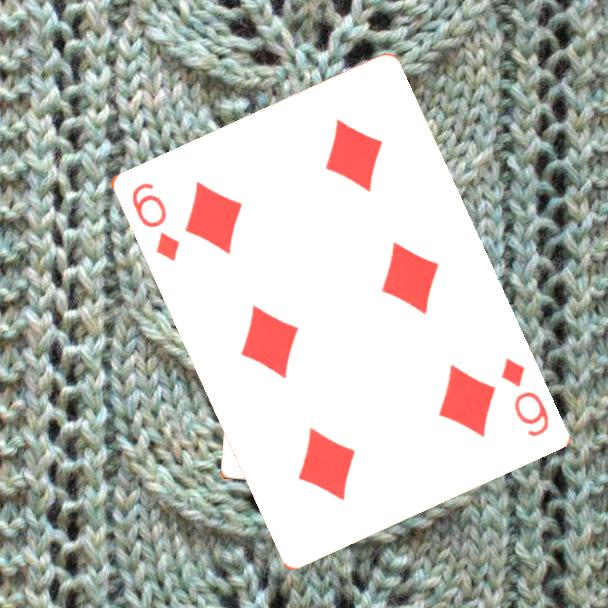d06: (496, 353, 552, 440), (127, 178, 182, 264)
